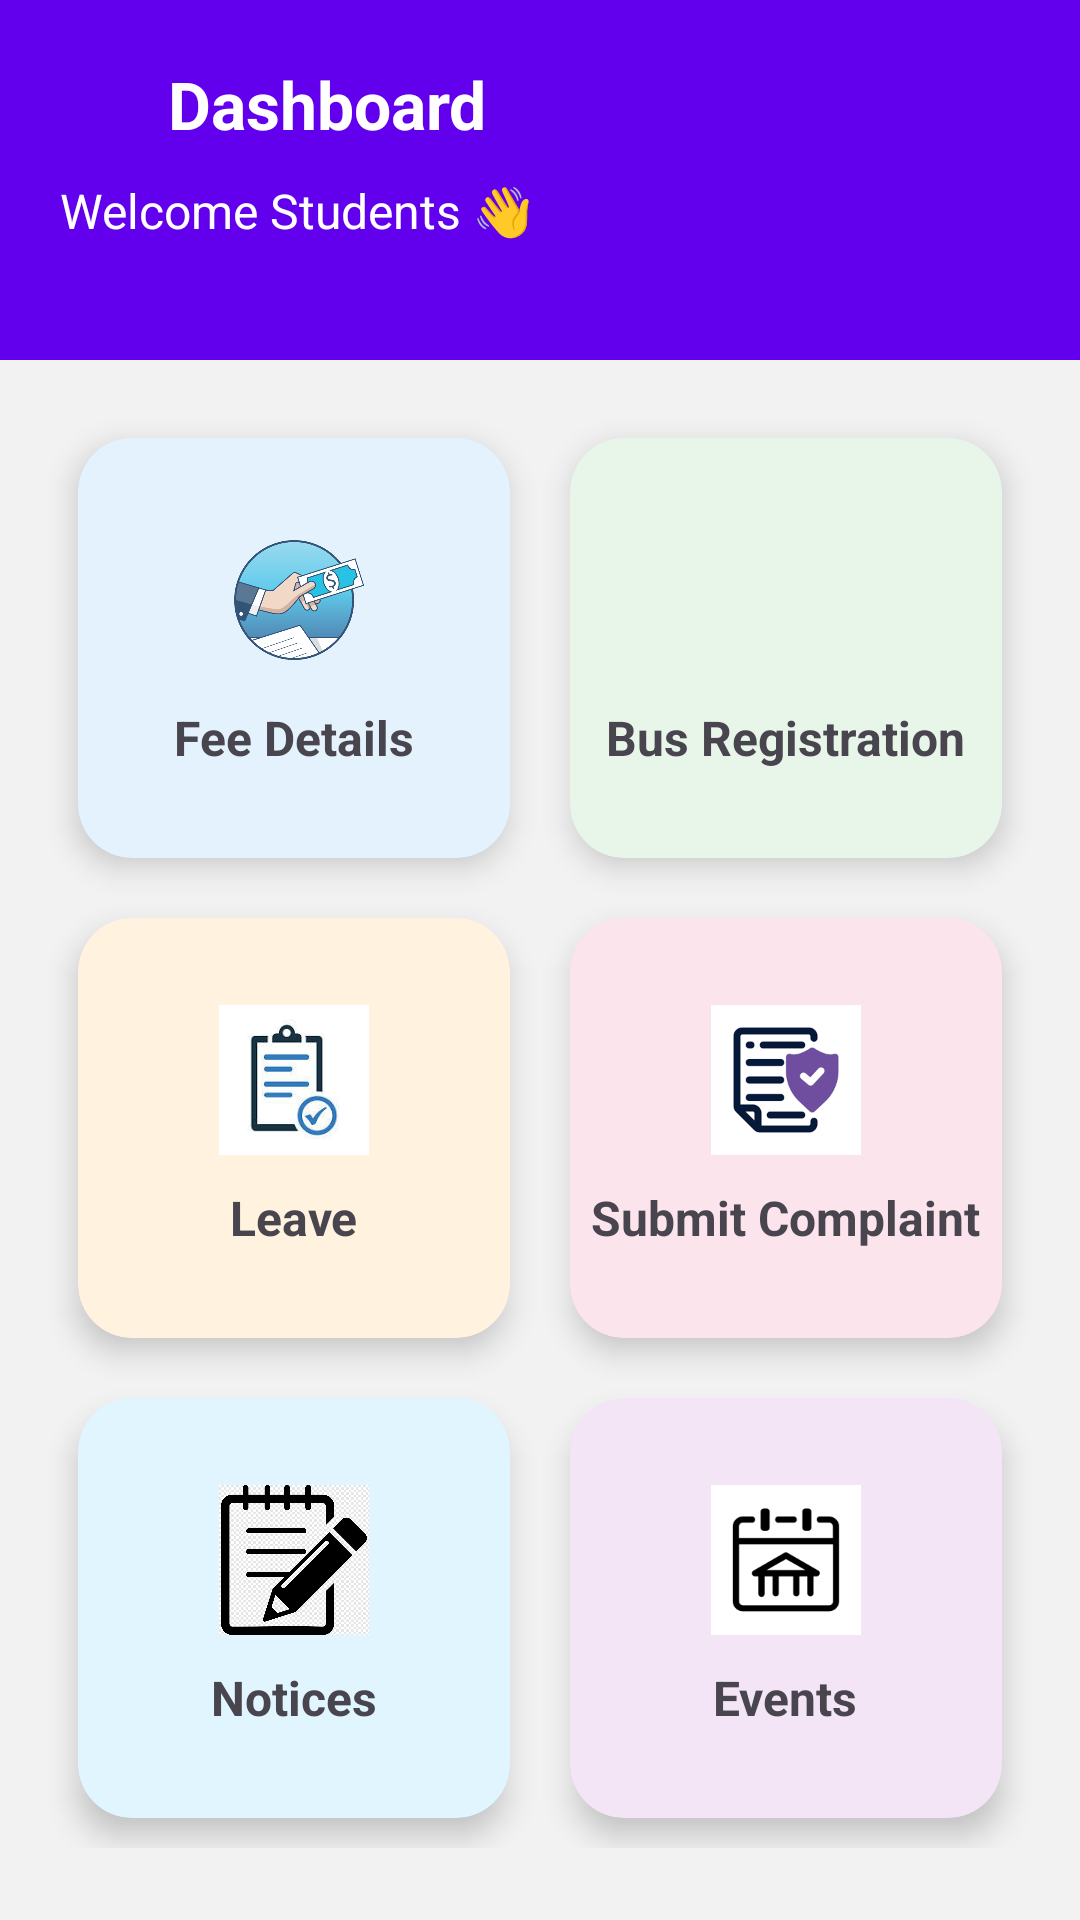

Where icons sit on this 1080x1920 app screen, as (x1, y1, x2, y2):
fees: (234, 540, 364, 660)
